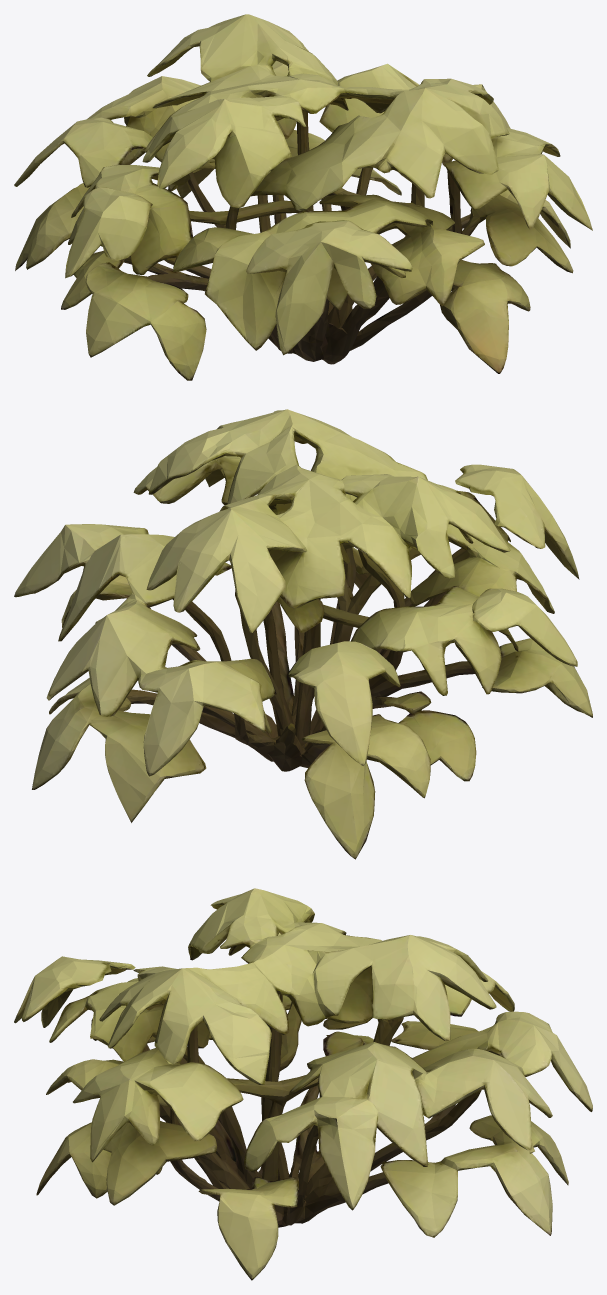
Rendered from desert_shrub.glb.
3 renders of one model, top to bottom at view 1: azimuth 30°, elevation 25°; view 2: azimuth 150°, elevation 25°; view 3: azimuth 270°, elevation 25°, orthographic. The views are drawn at different scales.
Visible parts, largest first — view 1: world; view 2: world; view 3: world.
Boxes of the visible parts, left/top/right/bottom form: world: left=14, top=14, right=592, bottom=380; world: left=14, top=409, right=592, bottom=859; world: left=14, top=888, right=592, bottom=1280.
Bounding box in the file's own units: 0.9774 × 0.5435 × 0.9985.
Materials: 1 (1 with a texture image).
